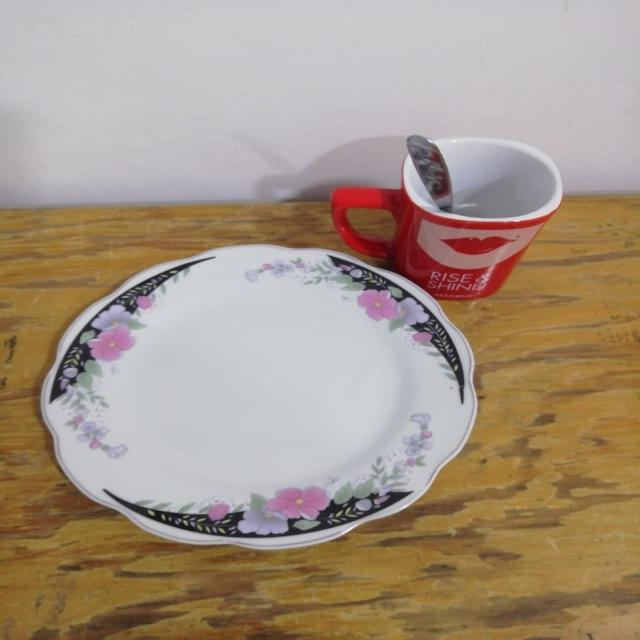non-organic waste: (63, 240, 487, 556)
